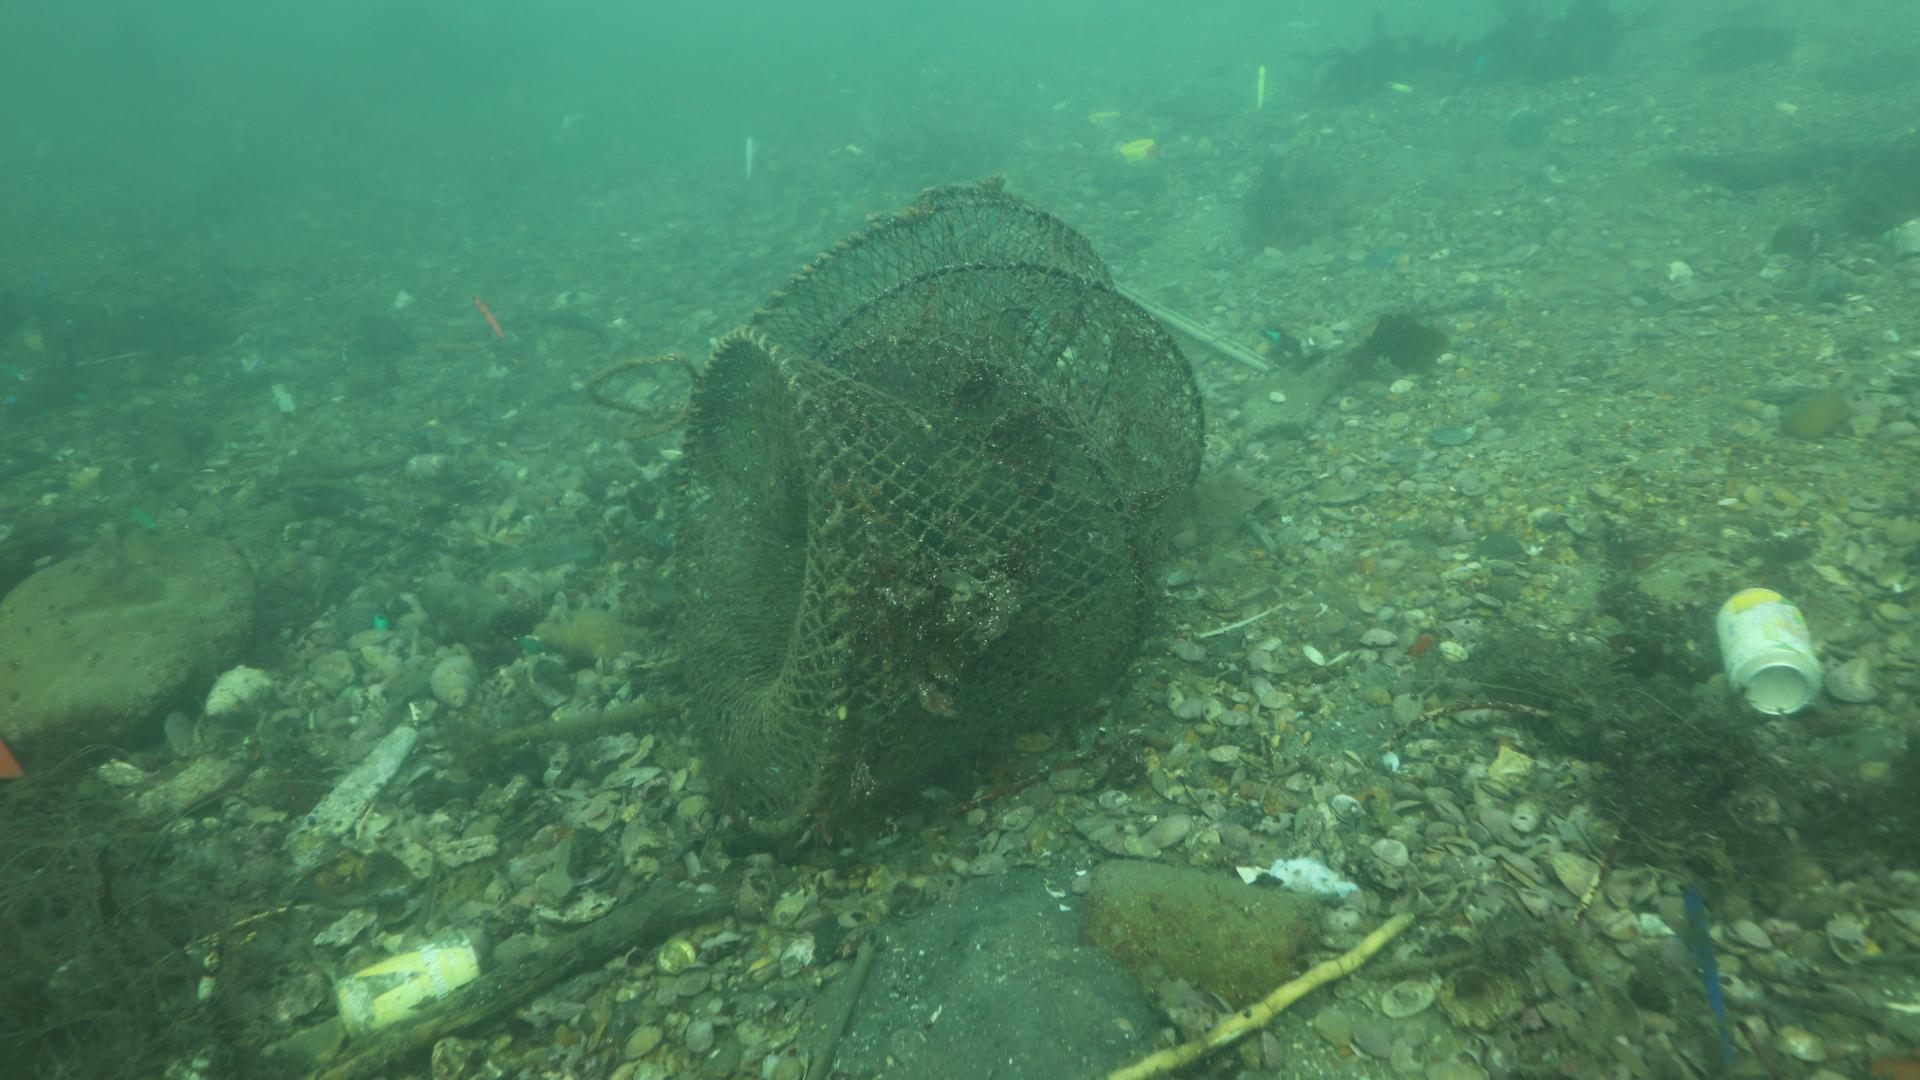rope: (585, 344, 709, 438)
spring fish trap: (669, 179, 1204, 840)
